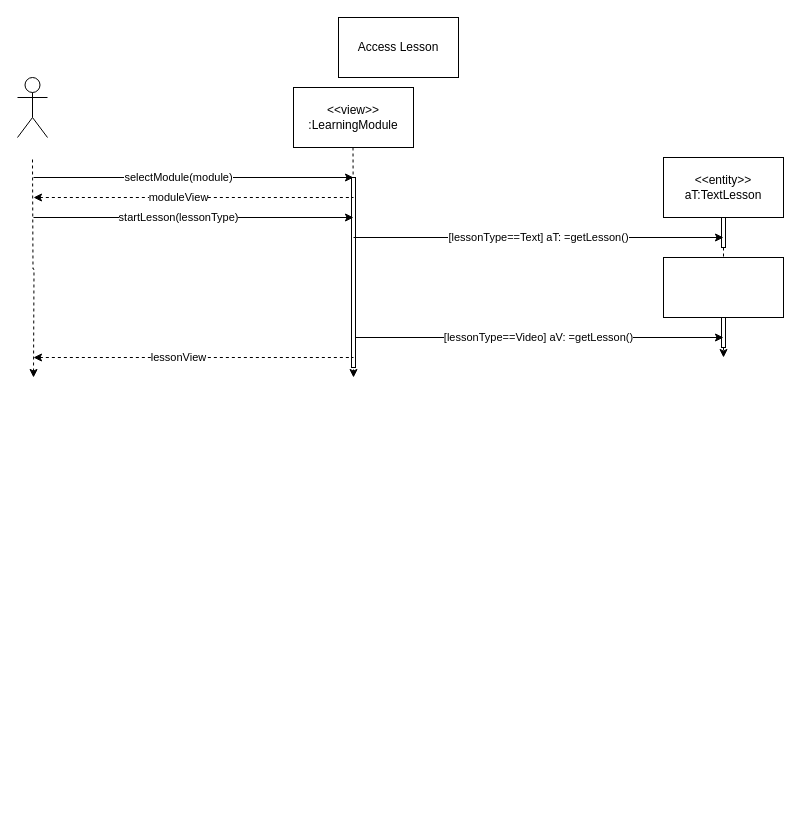
Some shapes in this 801 by 825 pixel diagram are drawn without their labels. The shapes that lost their labels are listed below. From the top down, each one's centre as x and y in pixels, then its label:
point 32,107: User
point 723,287: <<entity>> aV:VideoLesson
